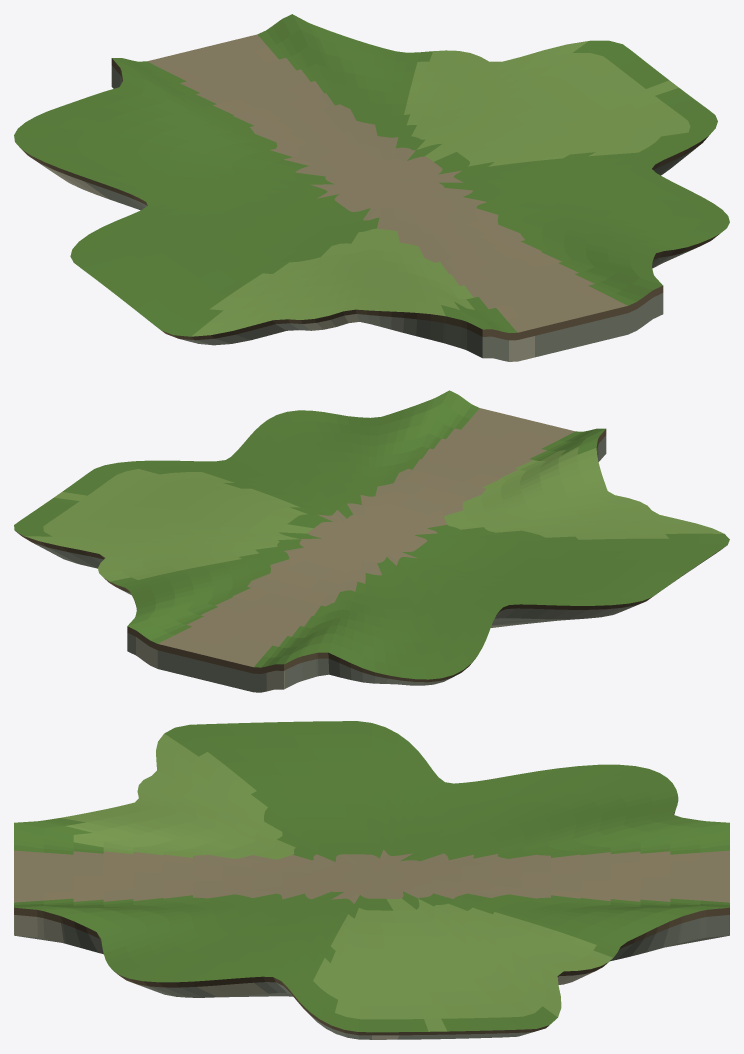
The model's file is rock_garden_structure.fbx.
3 renders of one model, top to bottom at view 1: azimuth 30°, elevation 25°; view 2: azimuth 150°, elevation 25°; view 3: azimuth 270°, elevation 25°, orthographic. The views are drawn at different scales.
Visible parts, largest first — view 1: chunk_rock_garden; view 2: chunk_rock_garden; view 3: chunk_rock_garden.
Boxes of the visible parts, x1,y1,x2,y2 form: chunk_rock_garden: (14, 14, 729, 361); chunk_rock_garden: (14, 390, 729, 692); chunk_rock_garden: (14, 721, 729, 1039).
Bounding box in the file's own units: 256 × 39.5 × 256.
